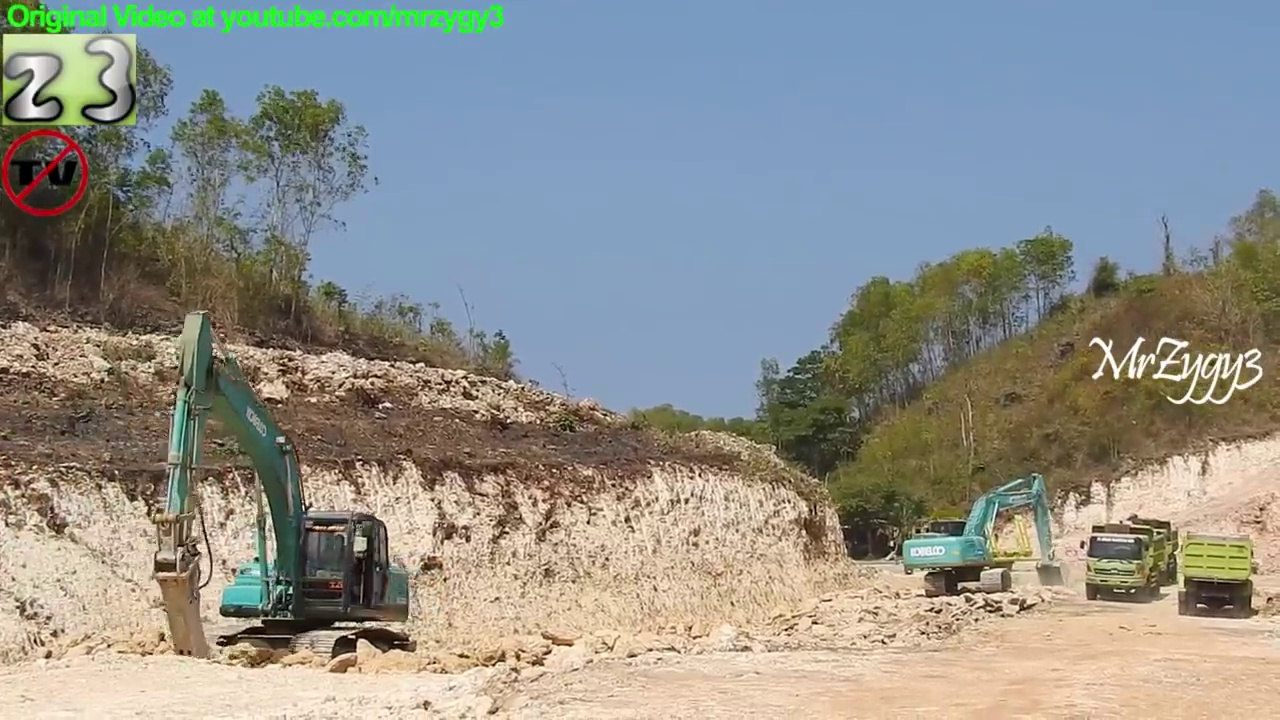excavator: (896, 471, 1072, 600)
excavator breaker: (146, 305, 417, 669)
truck: (1175, 530, 1262, 619), (1089, 513, 1181, 593), (1077, 523, 1168, 602)
